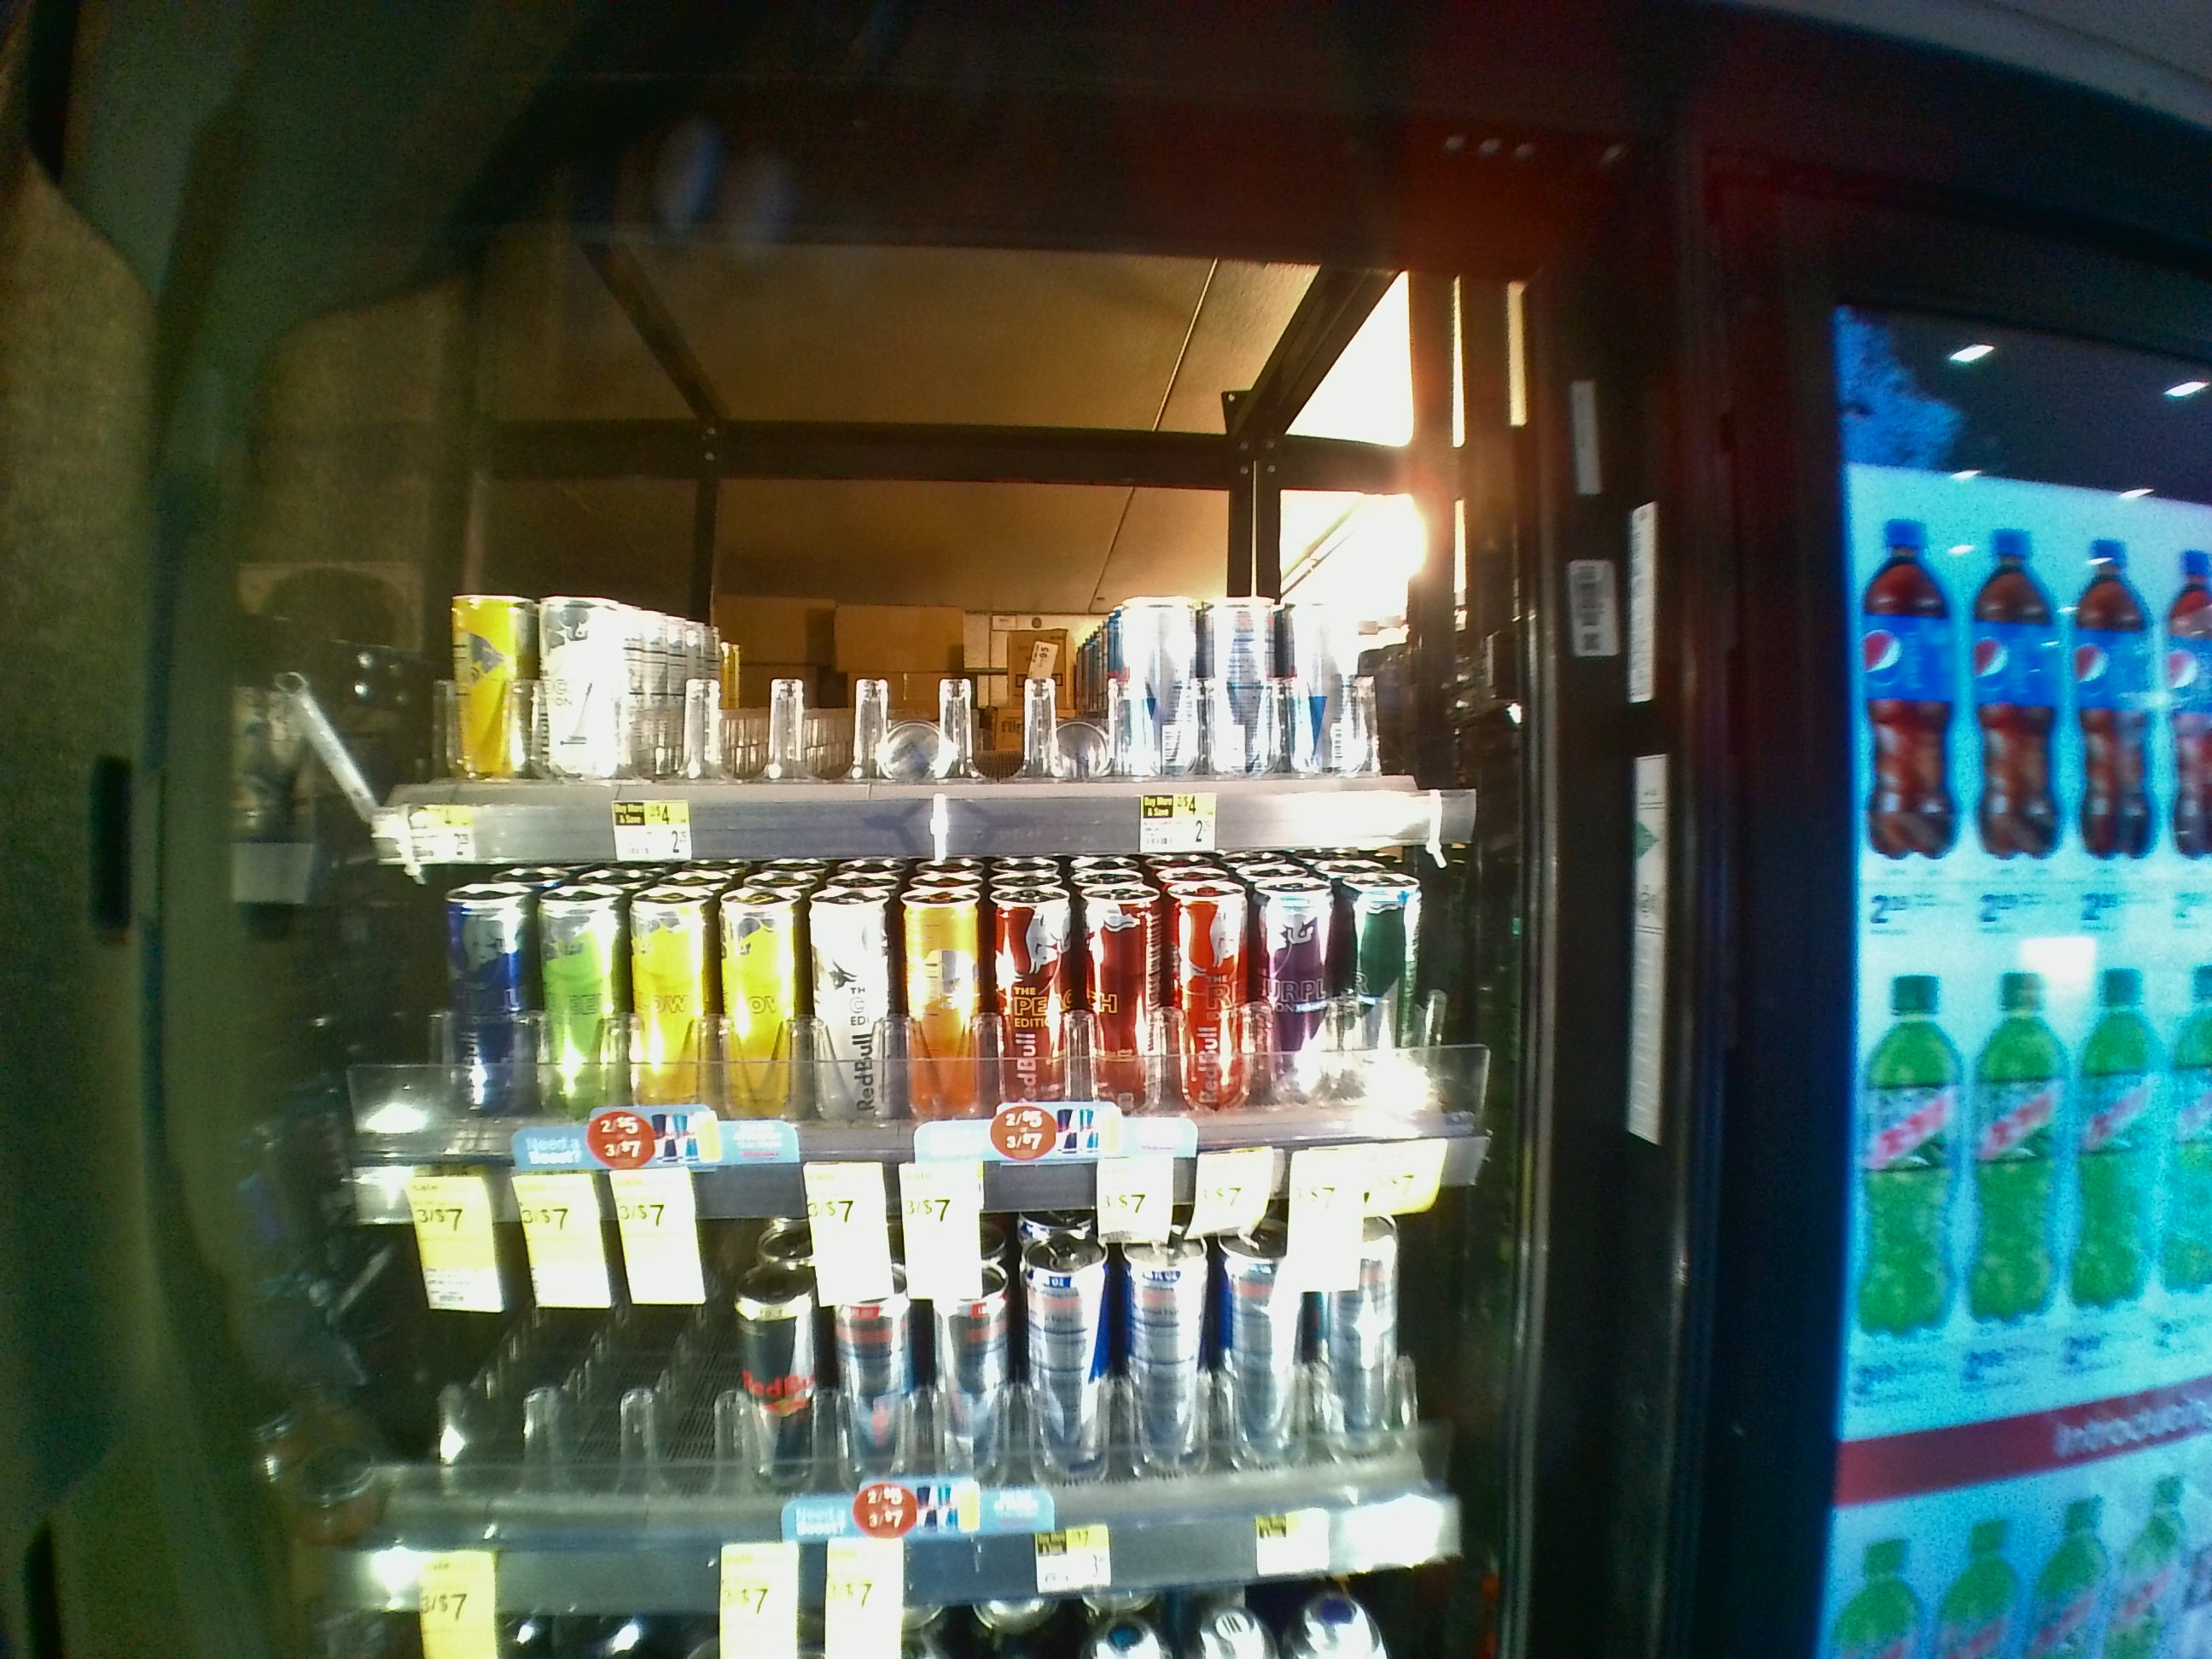shelf: (334, 237, 1541, 849), (331, 854, 1538, 1211)
